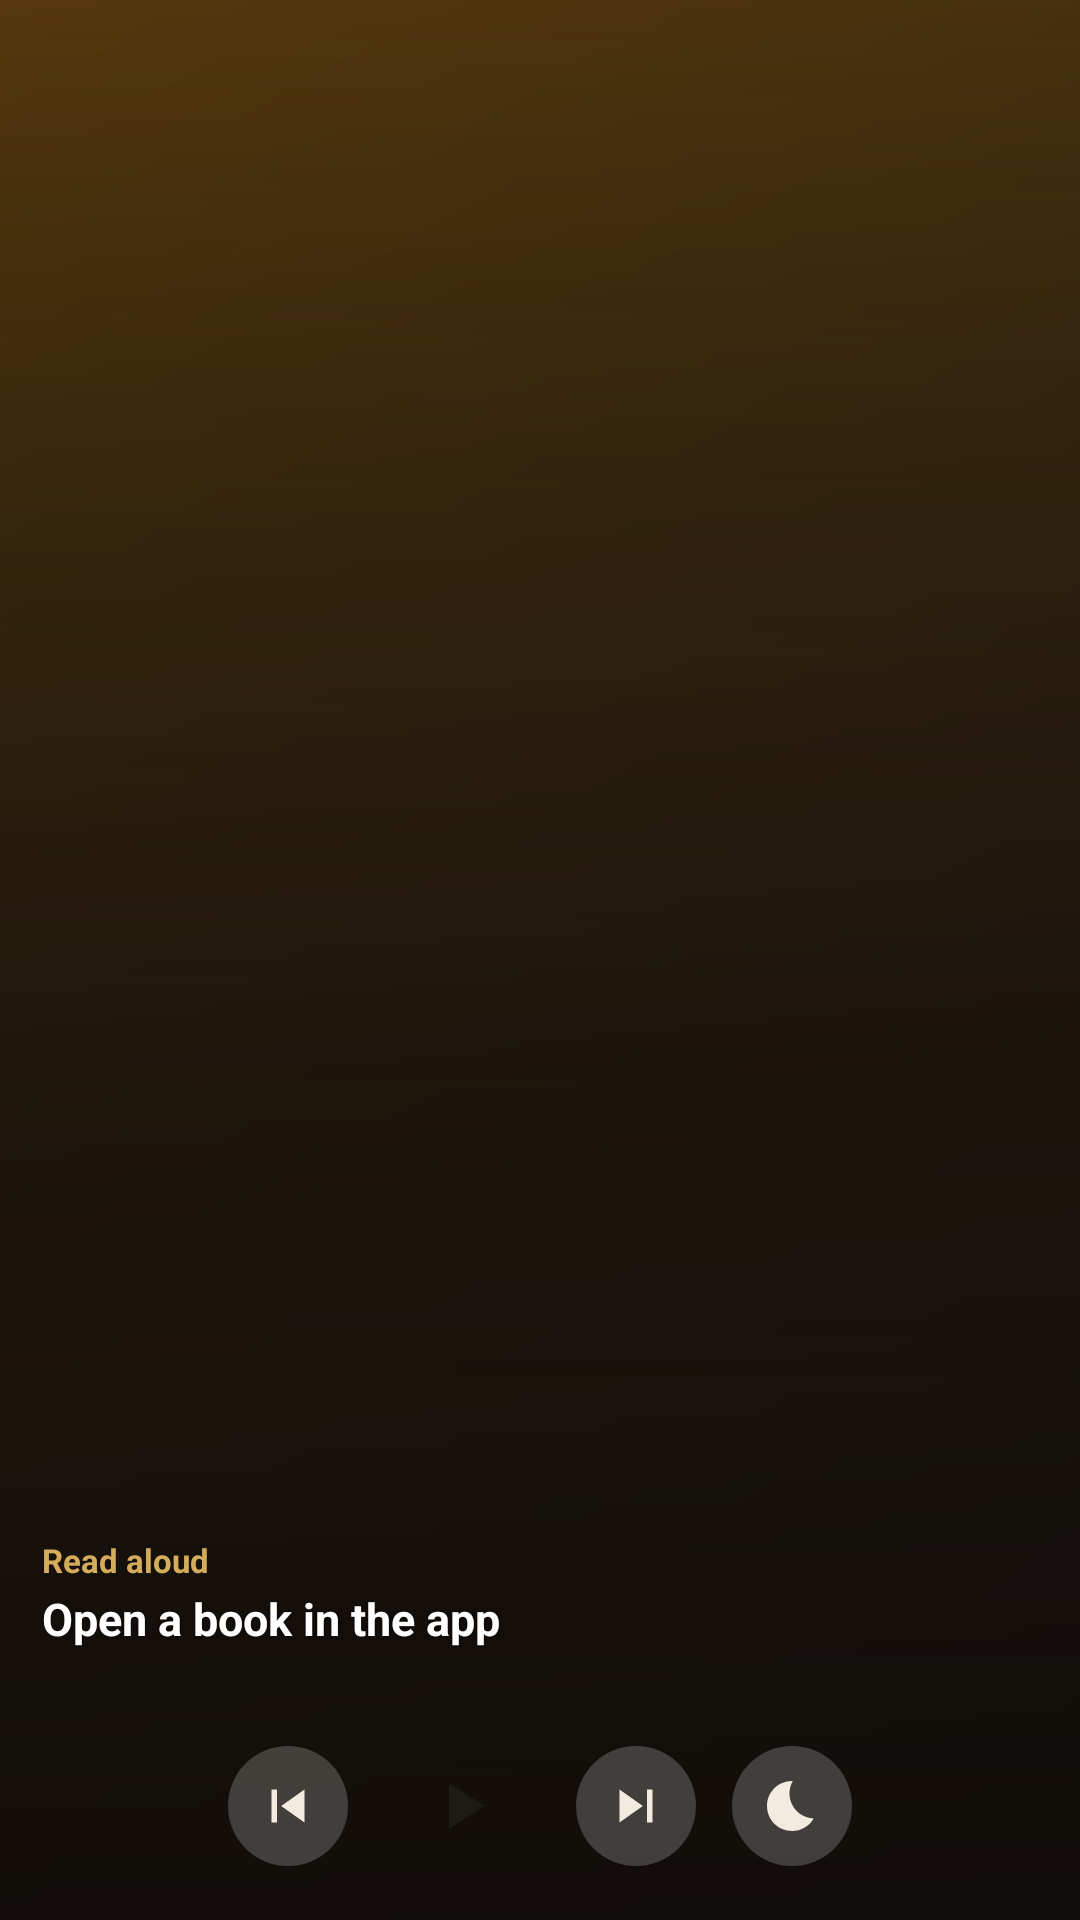

Where to tap for icons on this 1080w x 1920h app screen, as (x=x, y=y):
Back: (x=288, y=1806)
Next: (x=636, y=1806)
widget sleep: (x=792, y=1806)
